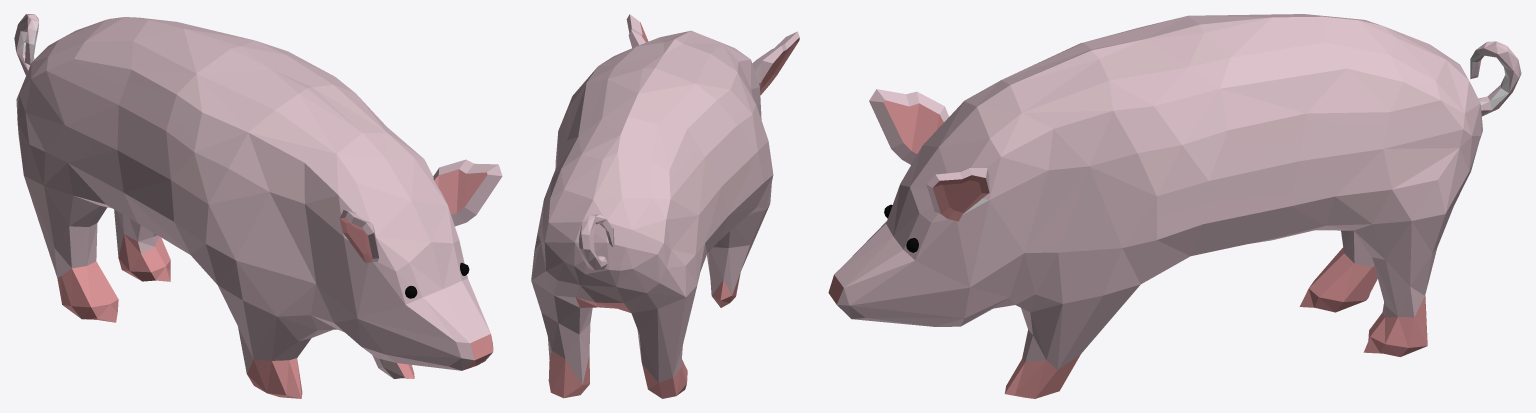
The model's file is pig.fbx.
3 views of the same model, side by side, from view 1: azimuth 30°, elevation 25°; view 2: azimuth 150°, elevation 25°; view 3: azimuth 270°, elevation 25° (orthographic). The views are drawn at different scales.
Visible parts, largest first — view 1: pig; view 2: pig; view 3: pig.
Part boxes in pixels (bbox=[...]): pig: bbox=[14, 14, 502, 398]; pig: bbox=[531, 14, 799, 398]; pig: bbox=[828, 14, 1521, 398].
Size of the model in its own units: 124 by 131 by 251.
